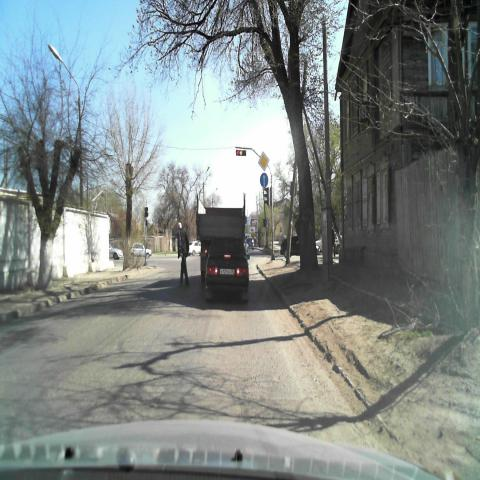2_1: (258, 150, 270, 170)
4_1_1: (259, 172, 269, 188)
